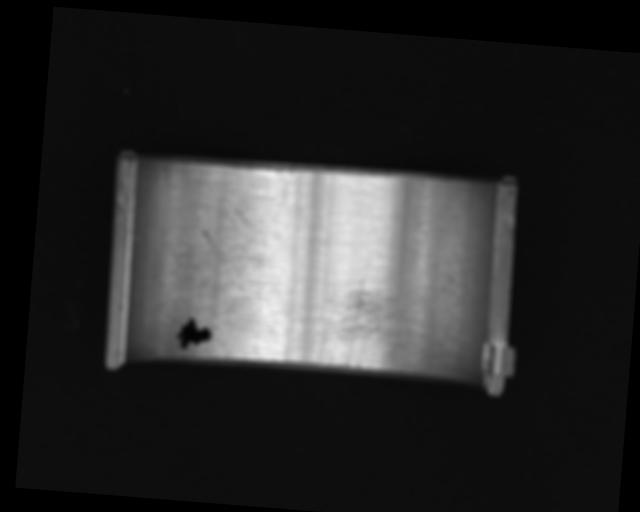blot: (173, 315, 214, 351)
bruise: (224, 199, 251, 228)
nick: (197, 230, 247, 292)
scratch: (315, 275, 453, 377)
